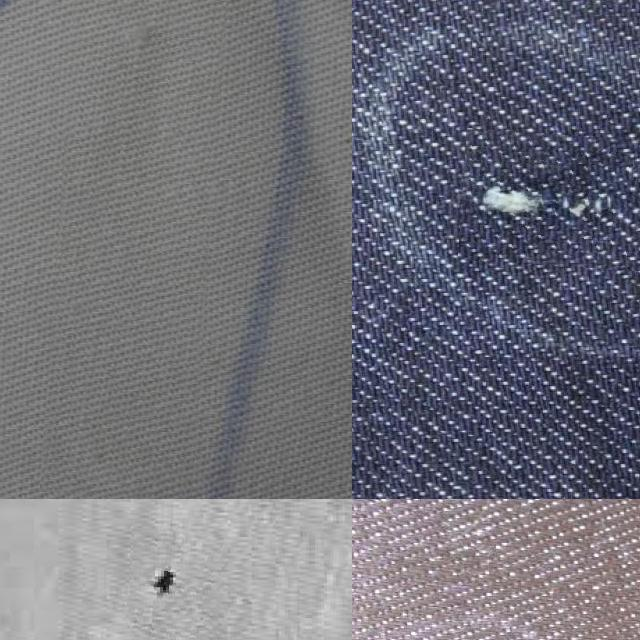other: (127, 529, 223, 638)
stains: (49, 0, 219, 498), (460, 130, 640, 267)
